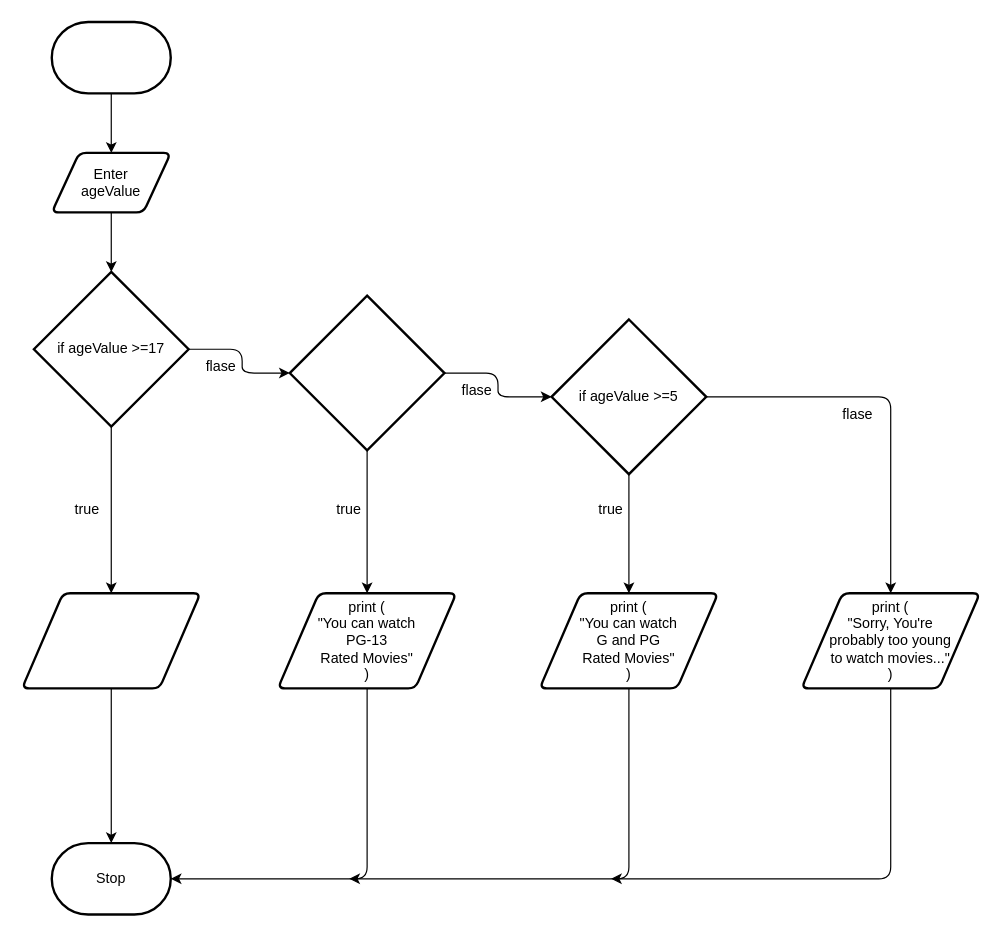
The diagram is 1001 pixels wide and 935 high, and some of its shapes have lost their labels. The shapes that lost their labels are listed below. From the top down, each one's centre as x and y in pixels, then its label:
point 110,57: Start
point 366,372: if ageValue >=13
point 110,640: print ( "You can watch R Rated Movies" )
